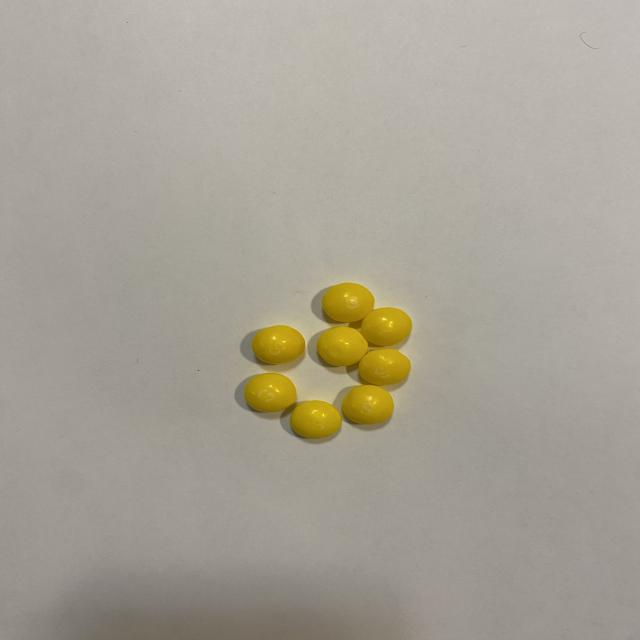smartie: (322, 283, 375, 322), (251, 326, 305, 364), (342, 385, 393, 425), (316, 327, 368, 366), (244, 373, 296, 412), (360, 308, 412, 346), (289, 401, 341, 439), (359, 349, 411, 386)
